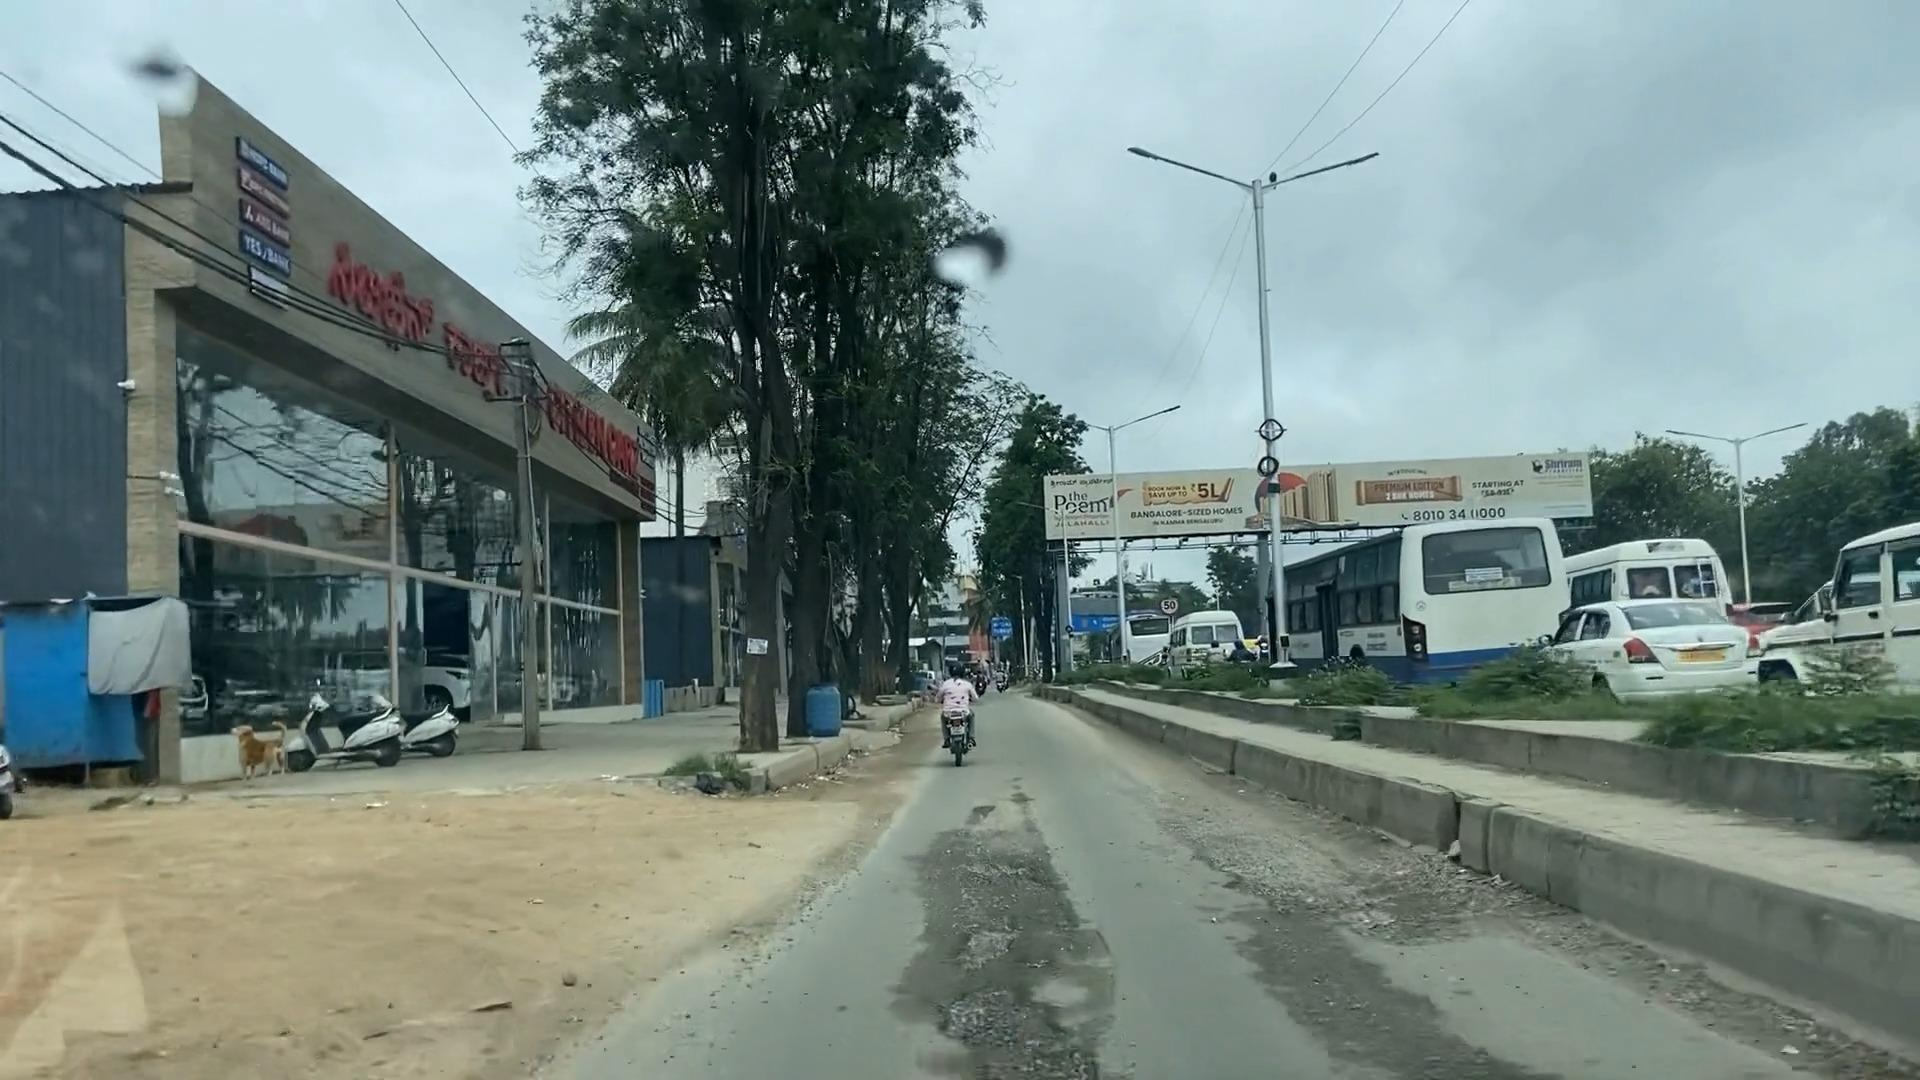RoadDamages: (914, 816, 1102, 1080), (1189, 803, 1457, 934), (1267, 971, 1501, 1080)
